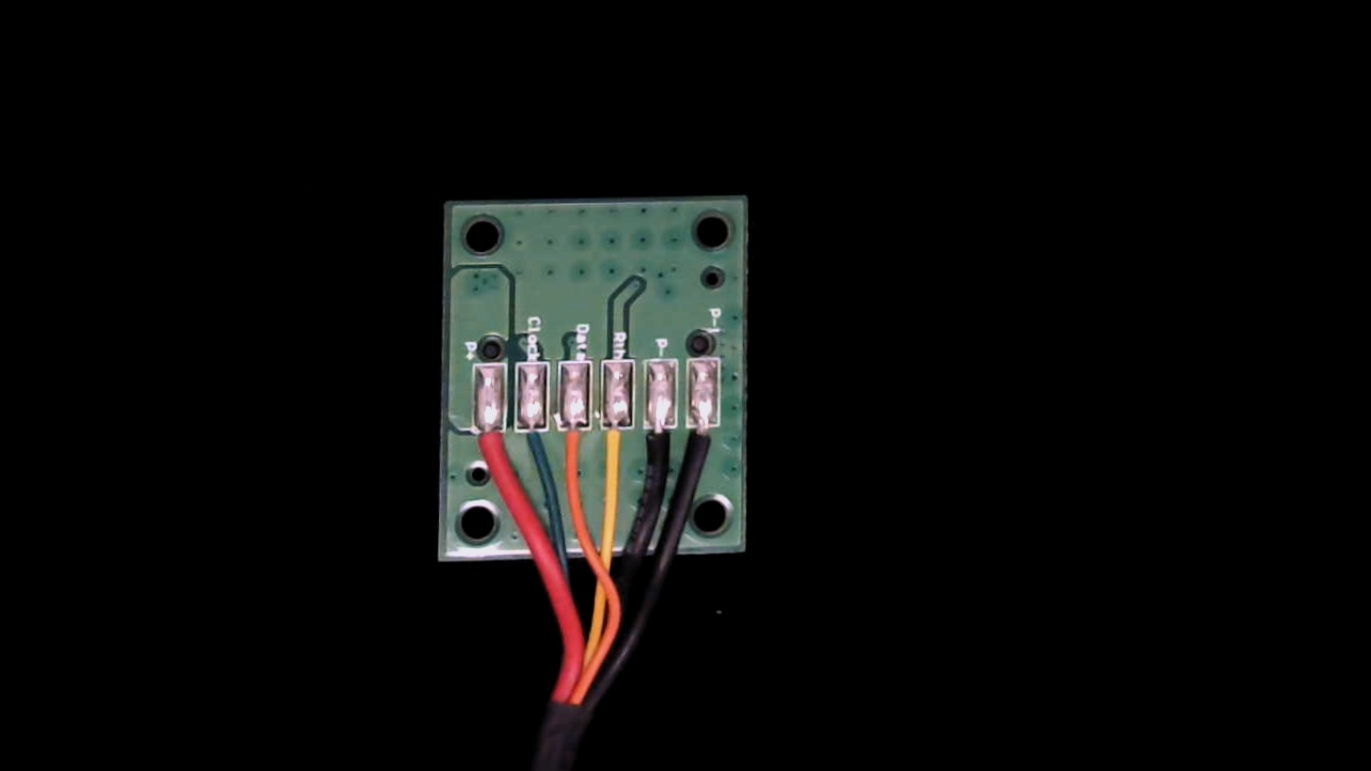Black: (637, 410, 678, 490)
Black1: (685, 411, 724, 484)
Green: (514, 409, 552, 473)
Orange: (555, 410, 593, 489)
Red: (467, 412, 508, 488)
Yellow: (595, 410, 636, 491)
